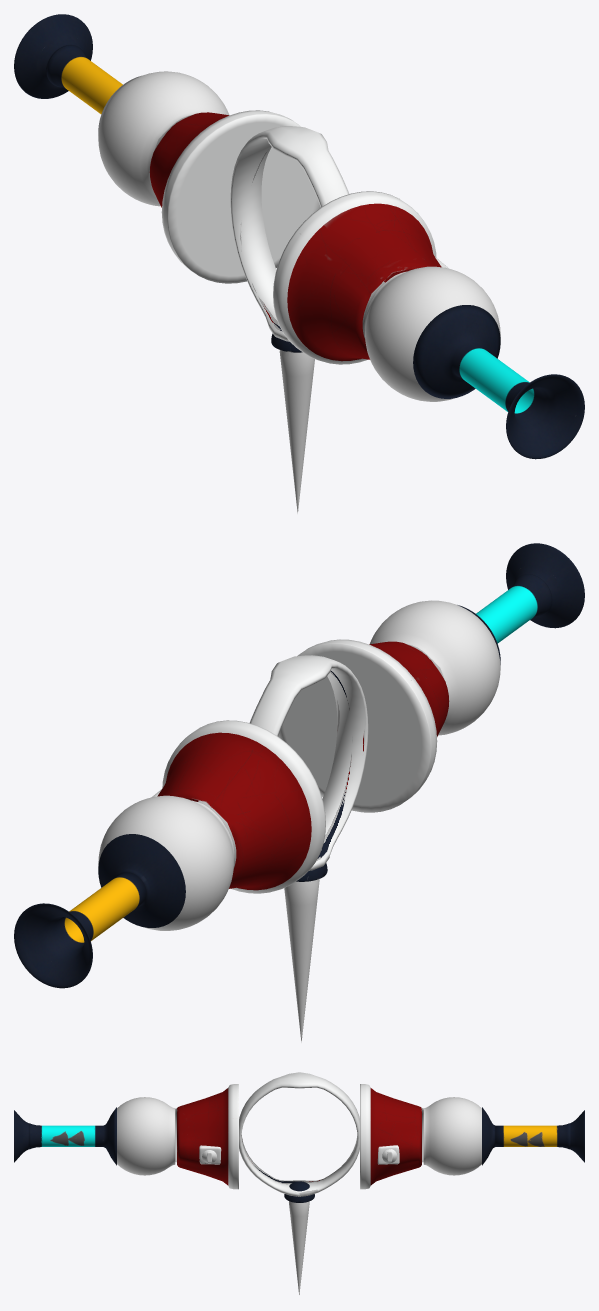
File: gum_gum_gun_MATFIX.fbx
The picture shows the model from 3 angles, top to bottom: view 1: azimuth 30°, elevation 25°; view 2: azimuth 150°, elevation 25°; view 3: azimuth 270°, elevation 25°; orthographic projection. The views are drawn at different scales.
Visible parts, largest first — view 1: Cylinder002; view 2: Cylinder002; view 3: Cylinder002.
Boxes of the visible parts, x1,y1,x2,y2 form: Cylinder002: [14, 14, 584, 513]; Cylinder002: [14, 543, 584, 1042]; Cylinder002: [14, 1072, 584, 1294].
Bounding box in the file's own units: 41.57 × 95.52 × 225.
